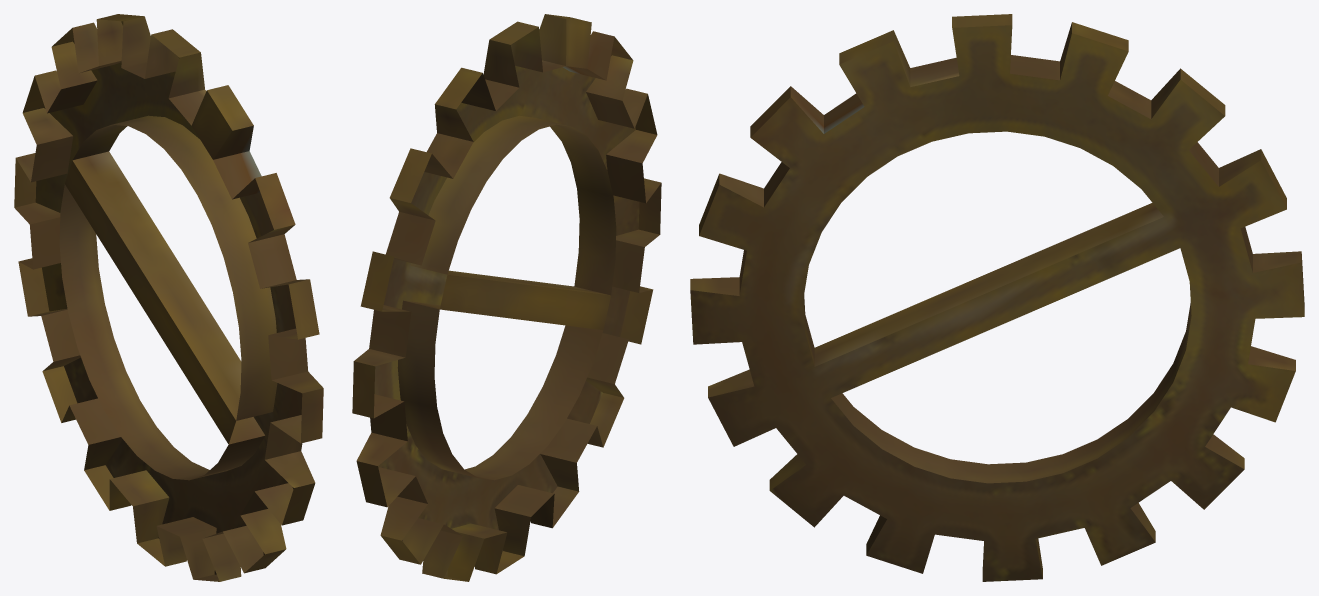
File: EngranajeCh02_T.obj
3 views of the same model, side by side, from view 1: azimuth 30°, elevation 25°; view 2: azimuth 150°, elevation 25°; view 3: azimuth 270°, elevation 25° (orthographic). The views are drawn at different scales.
Visible parts, largest first — view 1: EngranajesCh02_ORO01.002; view 2: EngranajesCh02_ORO01.002; view 3: EngranajesCh02_ORO01.002.
Boxes of the visible parts, box(x1,y1,x2,y2) form: EngranajesCh02_ORO01.002: box(14, 14, 323, 581); EngranajesCh02_ORO01.002: box(352, 14, 661, 581); EngranajesCh02_ORO01.002: box(690, 14, 1304, 581).
Size of the model in its own units: 0.2618 by 3.55 by 3.55.
